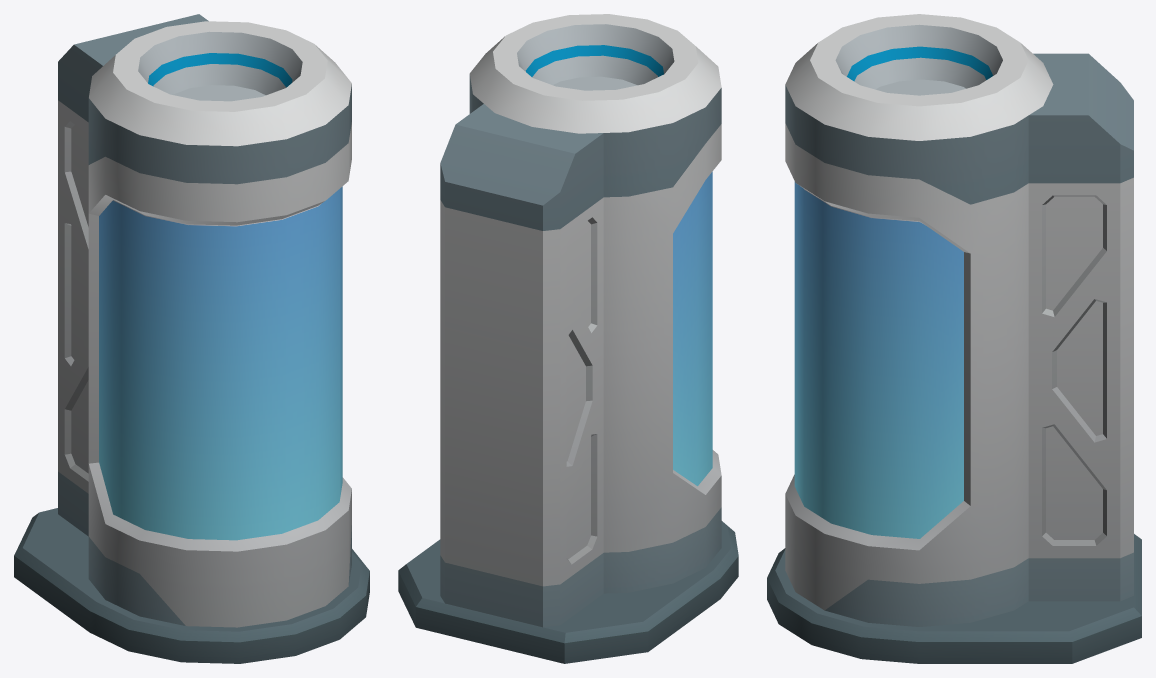
3 renders of one model, left to right at view 1: azimuth 30°, elevation 25°; view 2: azimuth 150°, elevation 25°; view 3: azimuth 270°, elevation 25°, orthographic. The views are drawn at different scales.
Visible parts, largest first — view 1: Сapsule_008; view 2: Сapsule_008; view 3: Сapsule_008.
Boxes of the visible parts, <box> form: Сapsule_008: <box>14,14,369,663</box>; Сapsule_008: <box>398,14,738,663</box>; Сapsule_008: <box>767,14,1141,663</box>.
Size of the model in its own units: 110 by 136 by 216.
